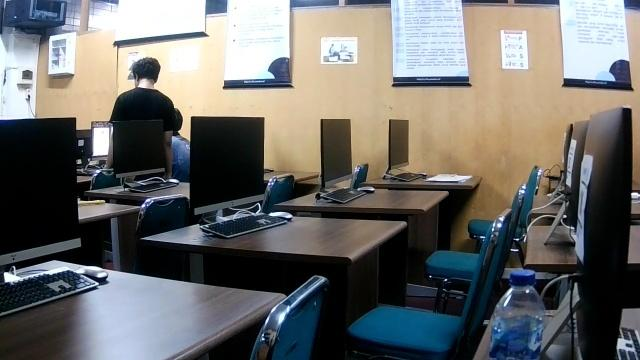AIO PC-Monitor-TV: (0, 115, 78, 268), (188, 113, 266, 215), (317, 115, 352, 192), (386, 117, 410, 172)
Kursi: (345, 207, 510, 359), (424, 184, 526, 284)
Meja: (0, 257, 289, 359), (135, 212, 411, 284), (273, 187, 450, 220)
